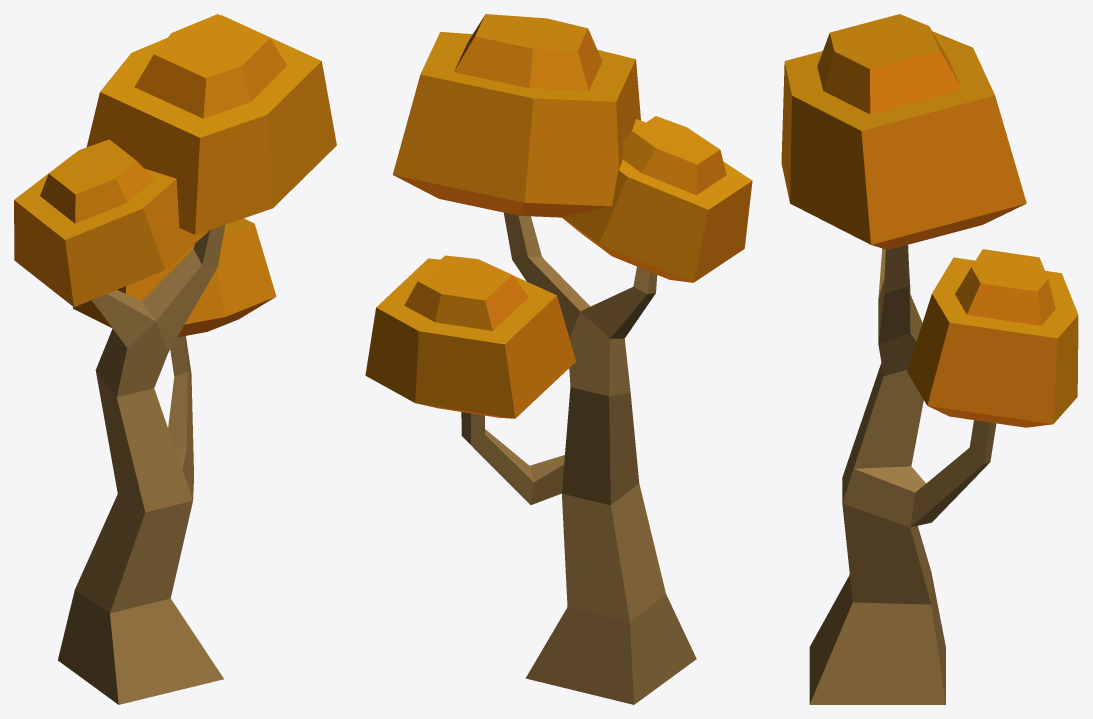
The model's file is ST_Env_Tree_Orange_01.fbx.
The picture shows the model from 3 angles, left to right: view 1: azimuth 30°, elevation 25°; view 2: azimuth 150°, elevation 25°; view 3: azimuth 270°, elevation 25°; orthographic projection. The views are drawn at different scales.
Parts seen in each view (by area): view 1: ST_Env_Tree_Orange_01; view 2: ST_Env_Tree_Orange_01; view 3: ST_Env_Tree_Orange_01.
Boxes of the visible parts, box(x1,y1,x2,y2) form: ST_Env_Tree_Orange_01: box(14, 14, 336, 704); ST_Env_Tree_Orange_01: box(365, 14, 752, 704); ST_Env_Tree_Orange_01: box(781, 14, 1078, 704).
Bounding box in the file's own units: 3.51 × 6.74 × 2.66.
